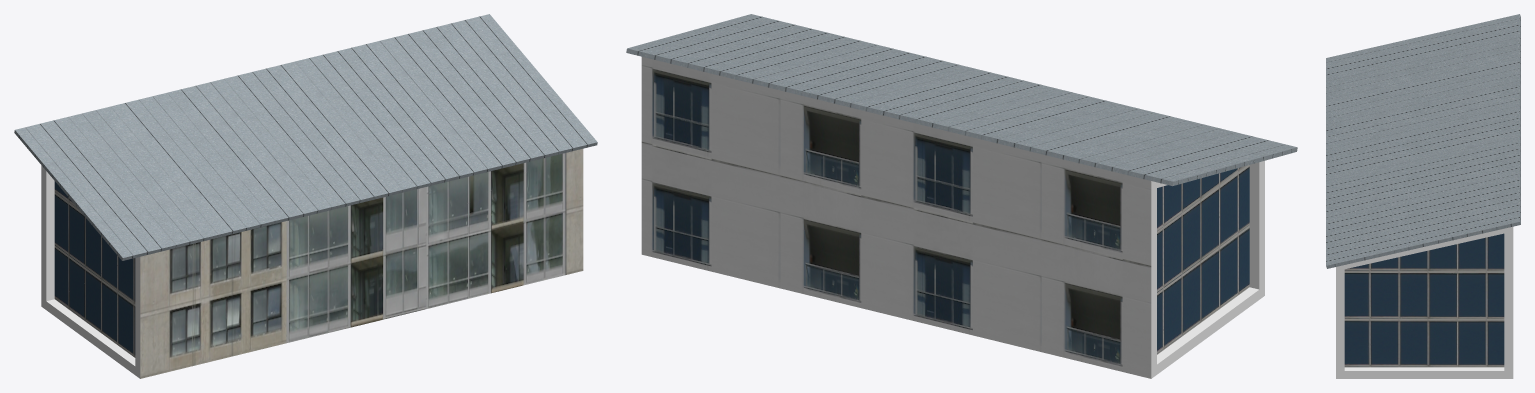
3 renders of one model, left to right at view 1: azimuth 30°, elevation 25°; view 2: azimuth 150°, elevation 25°; view 3: azimuth 270°, elevation 25°, orthographic. The views are drawn at different scales.
Visible parts, largest first — view 1: MainBuilding; view 2: MainBuilding; view 3: MainBuilding.
Part boxes in pixels (x1=…): MainBuilding: x1=14, y1=14, x2=597, y2=378; MainBuilding: x1=626, y1=14, x2=1297, y2=378; MainBuilding: x1=1326, y1=14, x2=1520, y2=378.
Size of the model in its own units: 2.79 by 1.01 by 1.11.
Materials: 1 (1 with a texture image).
